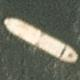ship: (0, 0, 40, 27)
